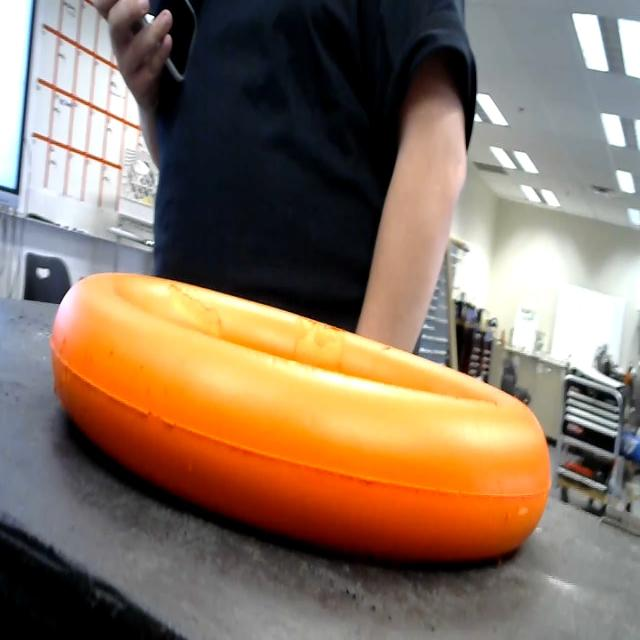note: (41, 254, 572, 582)
